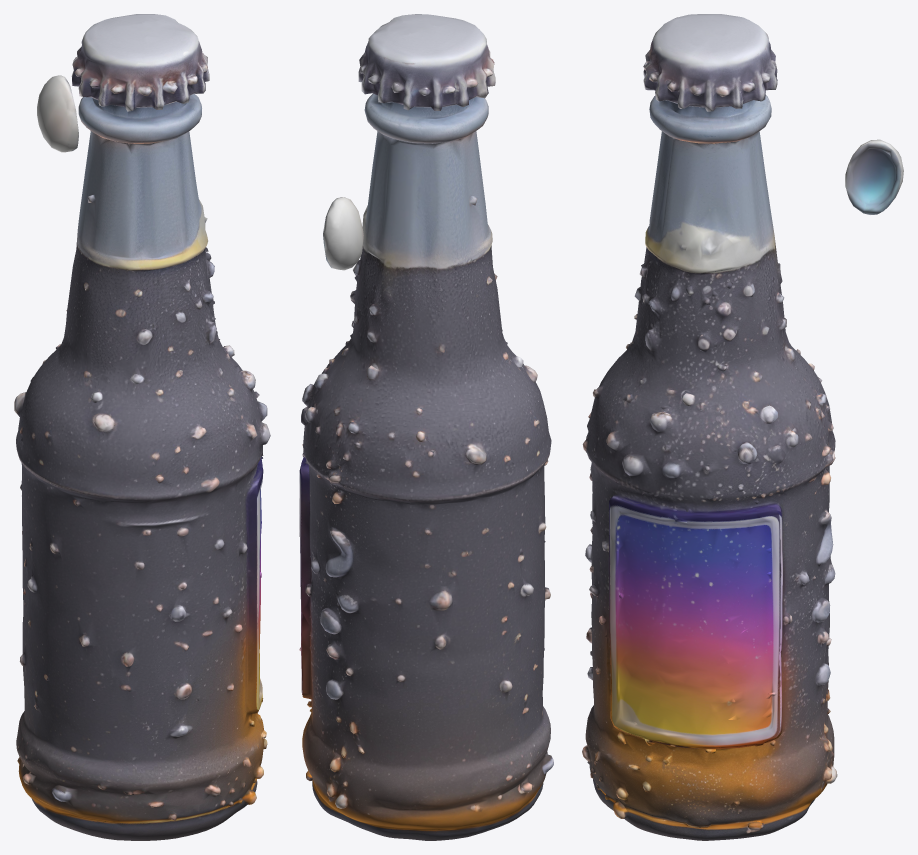
The model's file is after_work_beer.glb.
3 renders of one model, left to right at view 1: azimuth 30°, elevation 25°; view 2: azimuth 150°, elevation 25°; view 3: azimuth 270°, elevation 25°, orthographic.
Parts seen in each view (by area): view 1: tripo_node_0dfcb493-ff1d-4bc0-b3da-412f0332f60a; view 2: tripo_node_0dfcb493-ff1d-4bc0-b3da-412f0332f60a; view 3: tripo_node_0dfcb493-ff1d-4bc0-b3da-412f0332f60a.
Part boxes in pixels (x1,y1,x2,y2): tripo_node_0dfcb493-ff1d-4bc0-b3da-412f0332f60a: [14, 14, 270, 840]; tripo_node_0dfcb493-ff1d-4bc0-b3da-412f0332f60a: [299, 14, 553, 840]; tripo_node_0dfcb493-ff1d-4bc0-b3da-412f0332f60a: [582, 14, 903, 840].
Size of the model in its own units: 0.2922 by 0.9822 by 0.3713.
1 material, 1 textured.
